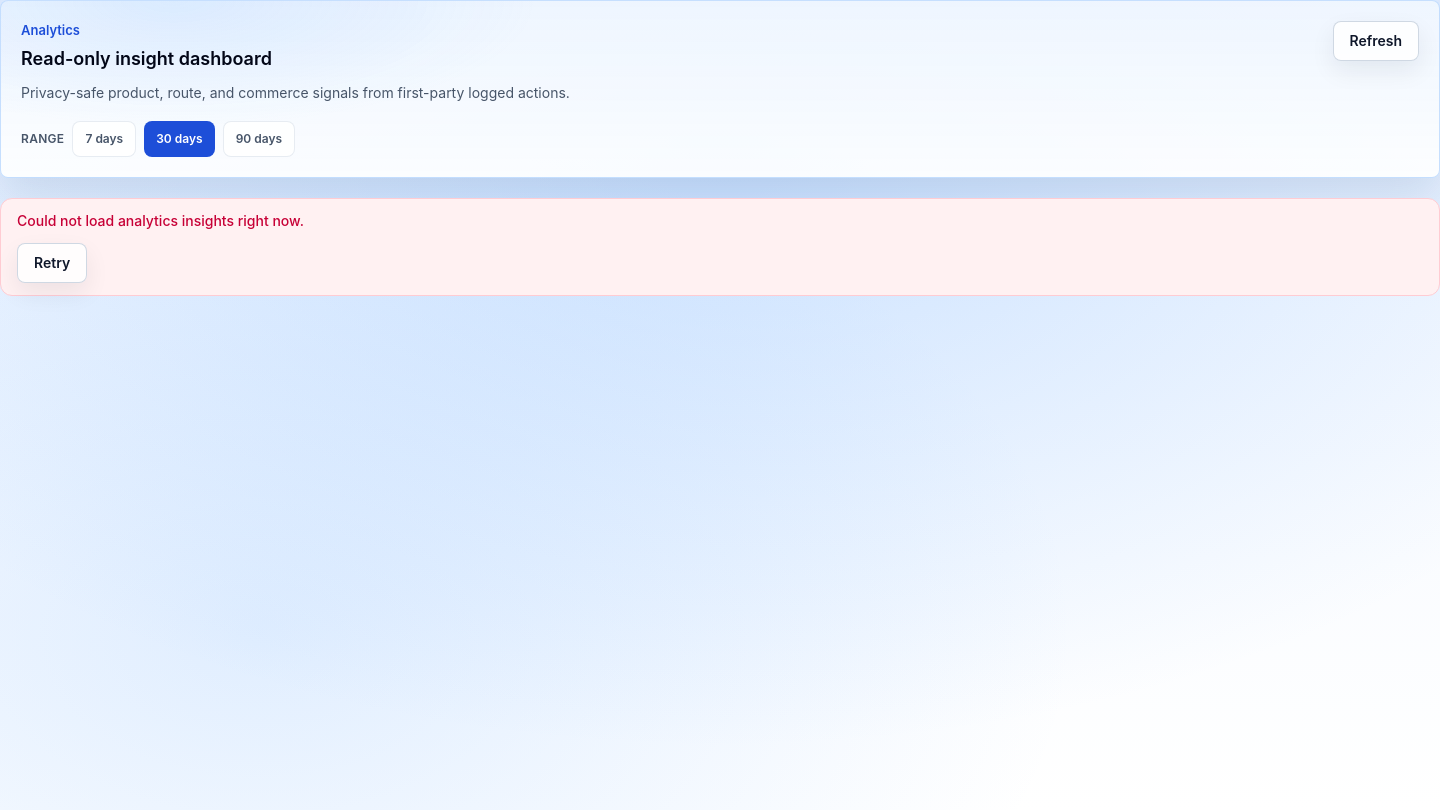
Test case: AdminAnalyticsDashboard › keeps unsafe identifiers out of rendered labels and supports retry
This screenshot has width=1440, height=810.
Expected: the message shows "Could not load analytics insights right now.", [17,212,304,228]
Click the button "Retry".
click(52, 262)  # box [17,242,87,282]
(page scrolled)
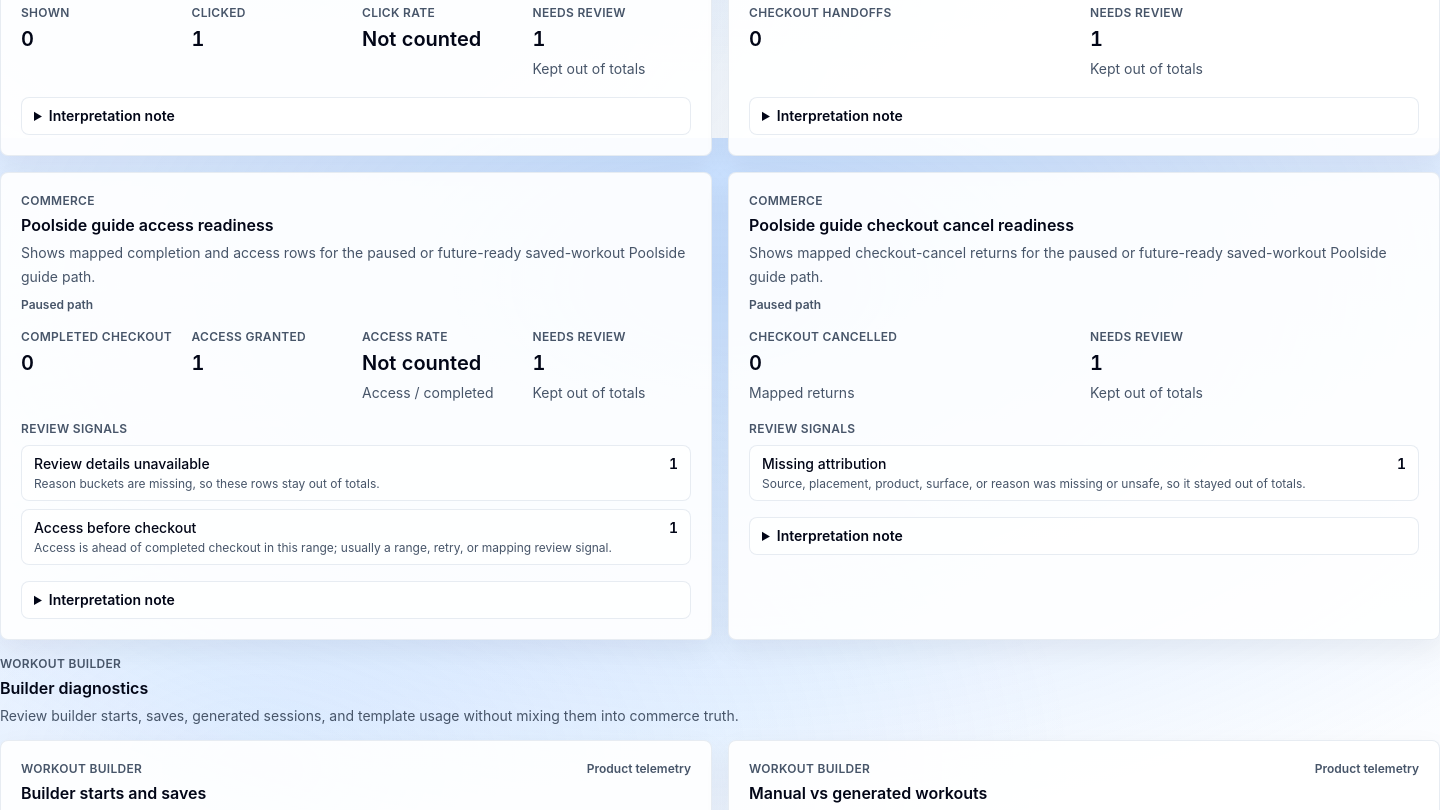
Expected: the element with test id "admin-analytics-workout-context-cta" shows "Not counted", [362,26,481,50]
Expected: the element with test id "admin-analytics-workout-context-checkout-started" shows "Needs review", [1090,4,1183,20]
Expected: the element with test id "admin-analytics-workout-context-checkout-outcome" shows "Needs review", [532,328,626,344]
